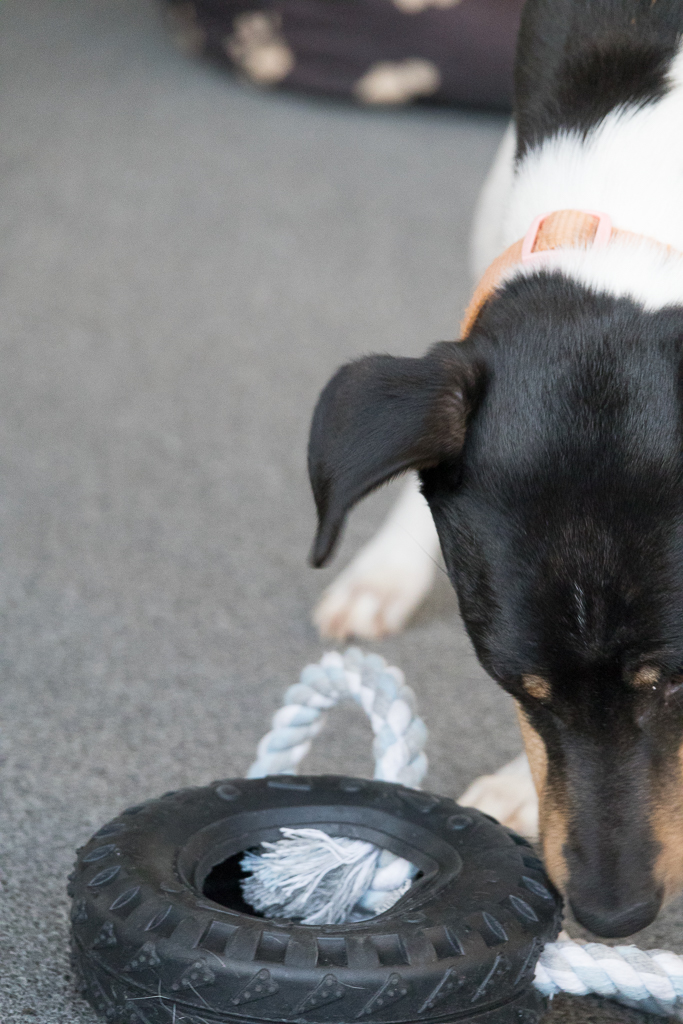Dog: (292, 0, 683, 956)
